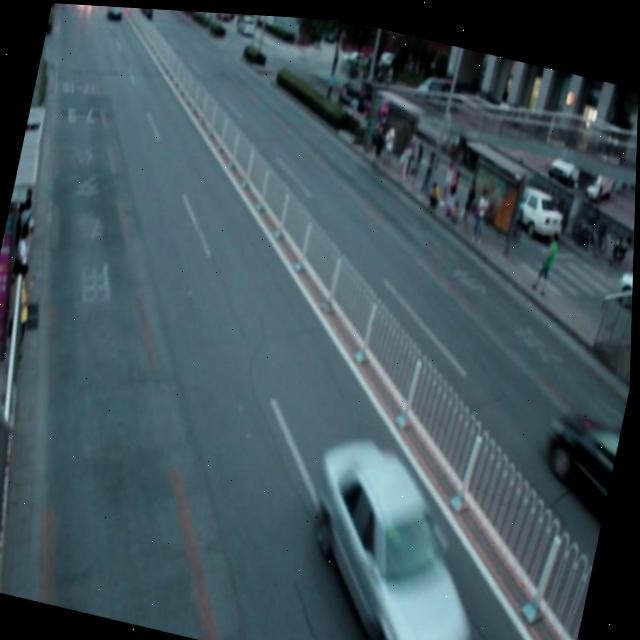car: (288, 428, 504, 640), (533, 392, 626, 522)
